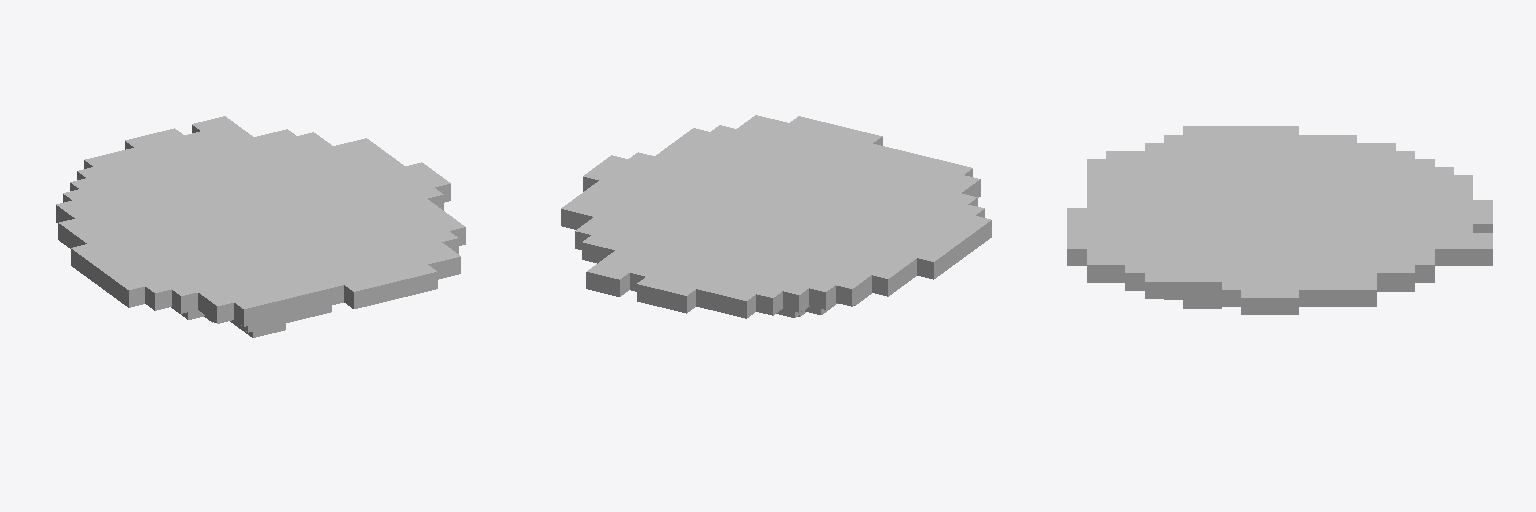
The model's file is Ice 4.obj.
The picture shows the model from 3 angles: view 1: azimuth 30°, elevation 25°; view 2: azimuth 150°, elevation 25°; view 3: azimuth 270°, elevation 25°; orthographic projection.
Parts seen in each view (by area): view 1: object 1; view 2: object 1; view 3: object 1.
Boxes of the visible parts, <box> form: object 1: <box>56,116,465,337</box>; object 1: <box>561,115,991,318</box>; object 1: <box>1067,126,1492,314</box>.
Size of the model in its own units: 2.1 by 0.5 by 2.2.